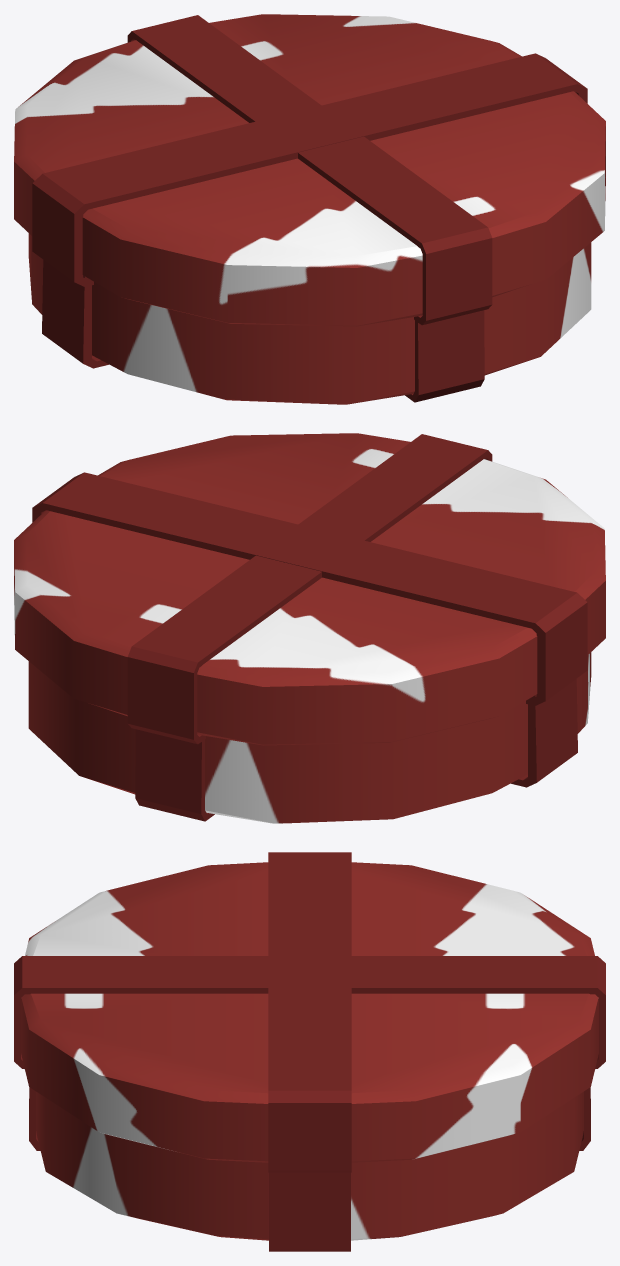
The model's file is PresentBox_Cylinder_Small_01.fbx.
The picture shows the model from 3 angles, top to bottom: view 1: azimuth 30°, elevation 25°; view 2: azimuth 150°, elevation 25°; view 3: azimuth 270°, elevation 25°; orthographic projection.
Visible parts, largest first — view 1: PresentBox_Cylinder_Small_01_Top, PresentBox_Cylinder_Small_01; view 2: PresentBox_Cylinder_Small_01_Top, PresentBox_Cylinder_Small_01; view 3: PresentBox_Cylinder_Small_01_Top, PresentBox_Cylinder_Small_01.
Part boxes in pixels (x1,y1,x2,y2): PresentBox_Cylinder_Small_01_Top: [14, 14, 605, 326]; PresentBox_Cylinder_Small_01: [28, 233, 591, 404]; PresentBox_Cylinder_Small_01_Top: [14, 433, 605, 745]; PresentBox_Cylinder_Small_01: [28, 652, 591, 823]; PresentBox_Cylinder_Small_01_Top: [14, 852, 605, 1172]; PresentBox_Cylinder_Small_01: [29, 1087, 590, 1251].
Size of the model in its own units: 0.3631 by 0.1127 by 0.3658.
